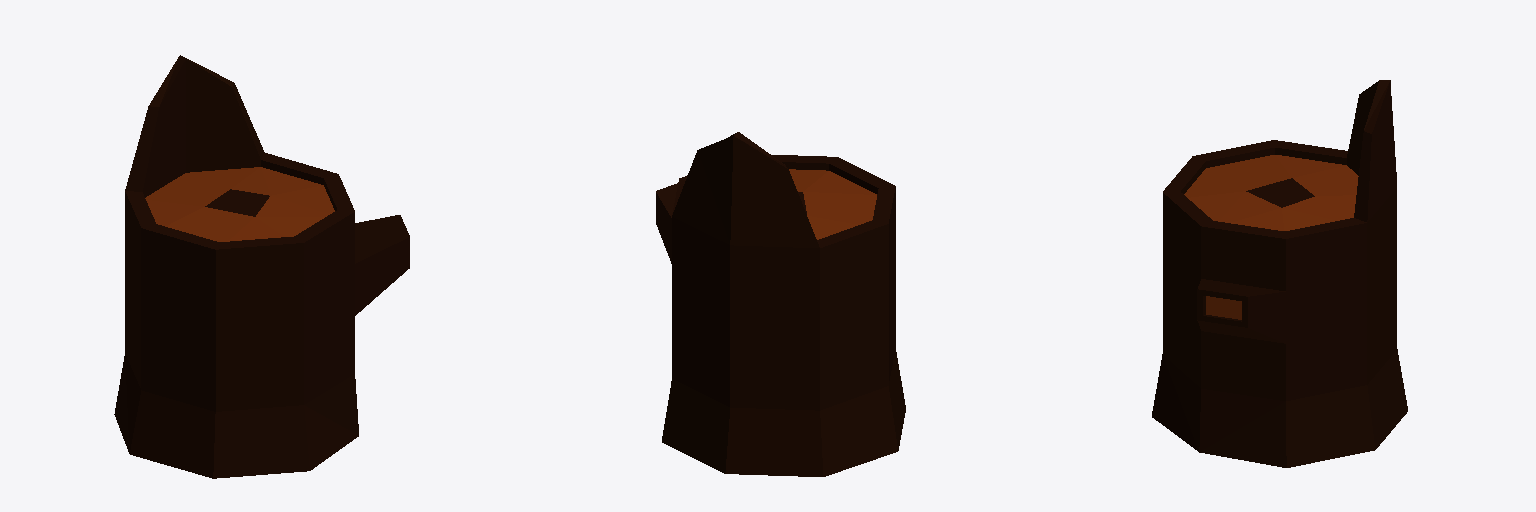
File: stump.obj
The picture shows the model from 3 angles: view 1: azimuth 30°, elevation 25°; view 2: azimuth 150°, elevation 25°; view 3: azimuth 270°, elevation 25°; orthographic projection.
Visible parts, largest first — view 1: Stump1_Cylinder.004; view 2: Stump1_Cylinder.004; view 3: Stump1_Cylinder.004.
Part boxes in pixels (x1,y1,x2,y2): Stump1_Cylinder.004: (114,55,409,478); Stump1_Cylinder.004: (656,132,905,476); Stump1_Cylinder.004: (1152,80,1407,467).
Bounding box in the file's own units: 2.33 × 2.88 × 2.02.